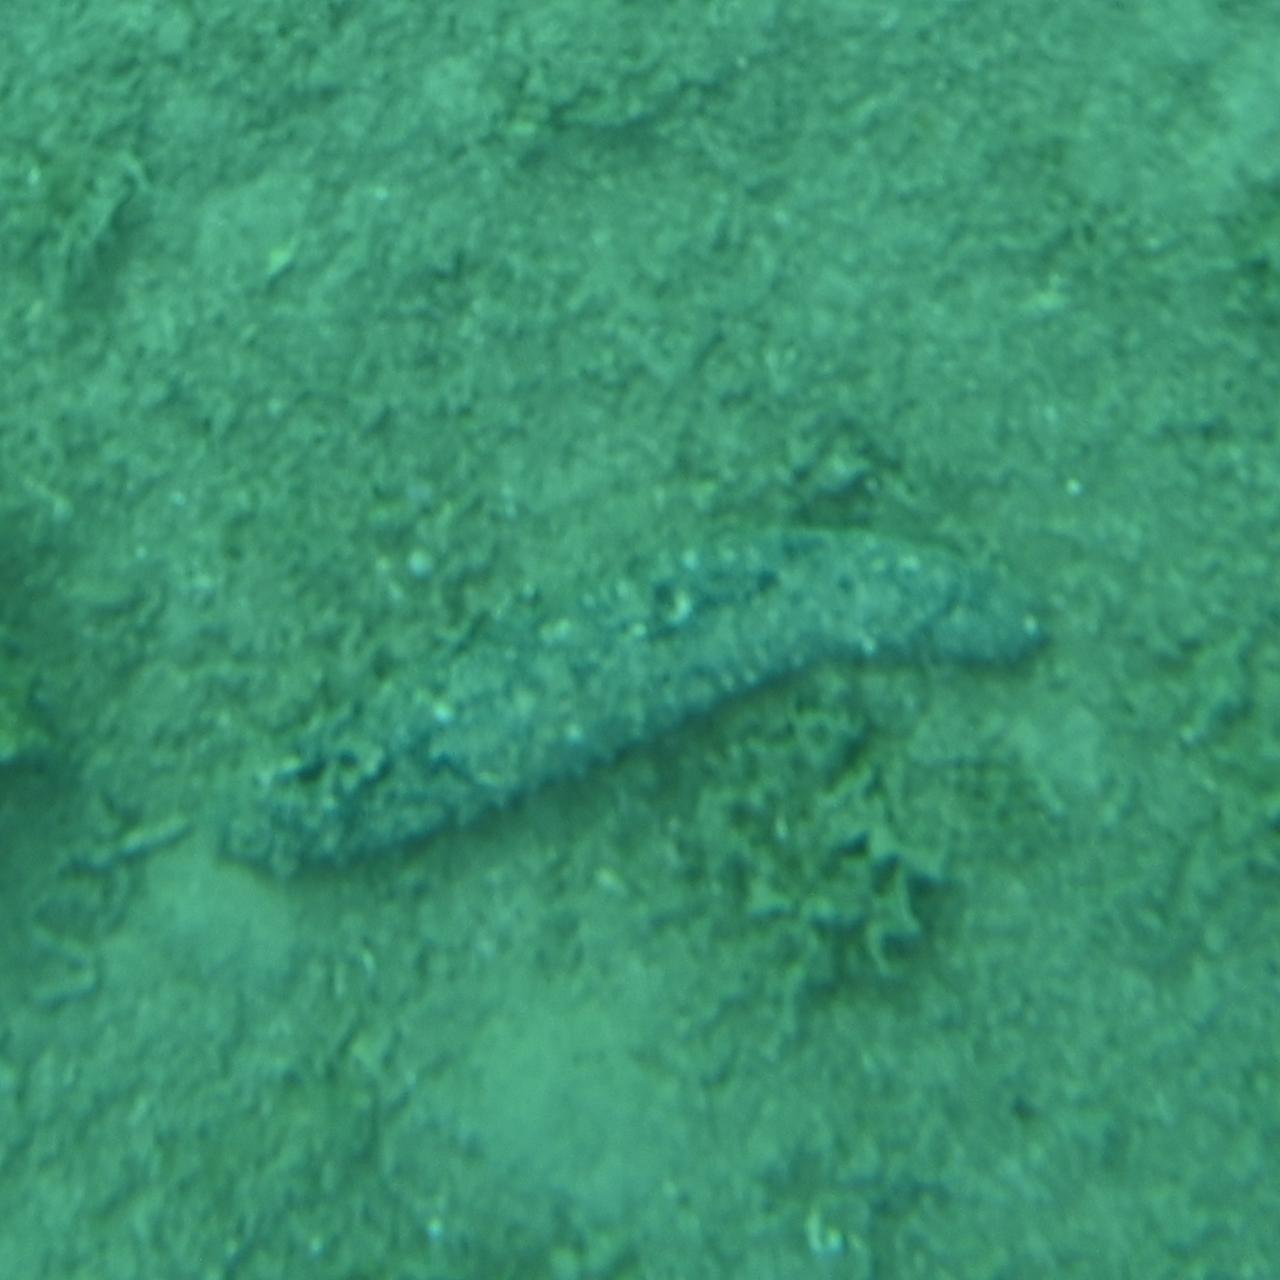Holothuria tubulosa: (218, 526, 1062, 893)
